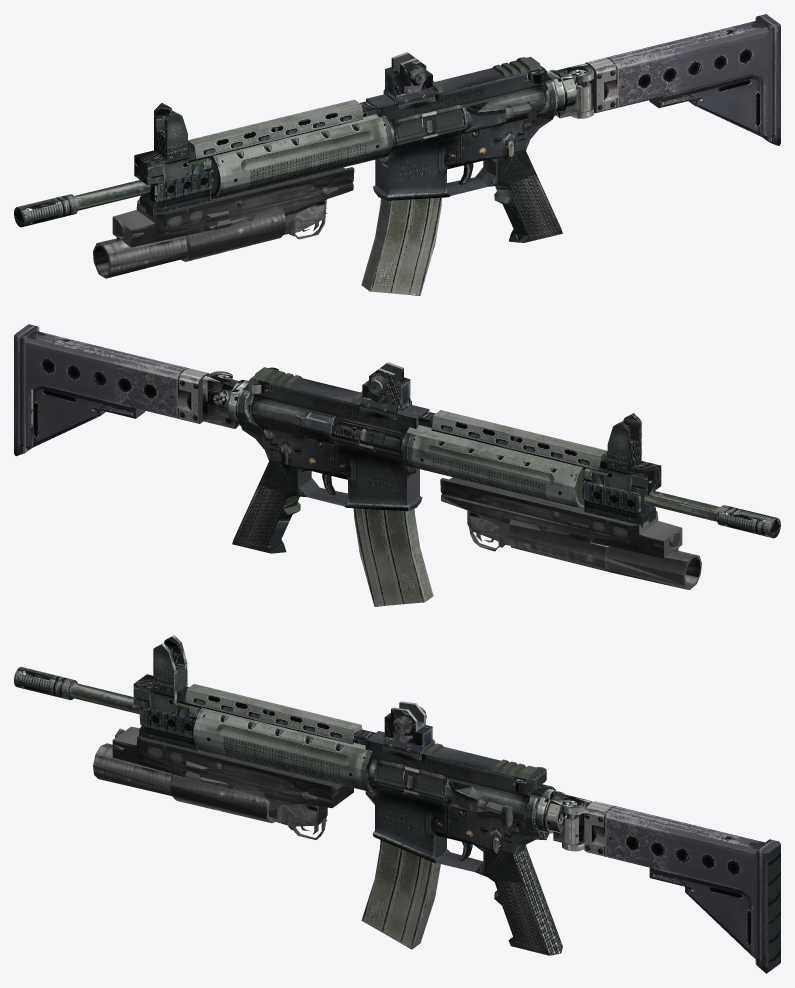
3 renders of one model, top to bottom at view 1: azimuth 30°, elevation 25°; view 2: azimuth 150°, elevation 25°; view 3: azimuth 330°, elevation 25°, orthographic.
Parts seen in each view (by area): view 1: Lr300, W_Gl5040; view 2: Lr300, W_Gl5040; view 3: Lr300, W_Gl5040.
Part boxes in pixels (left/top/right/bottom): Lr300: left=14, top=14, right=780, bottom=295; W_Gl5040: left=93, top=167, right=354, bottom=278; Lr300: left=14, top=324, right=780, bottom=606; W_Gl5040: left=440, top=477, right=701, bottom=590; Lr300: left=14, top=635, right=780, bottom=973; W_Gl5040: left=93, top=726, right=353, bottom=839.
Size of the model in its own units: 13.72 by 4.27 by 0.9057.
